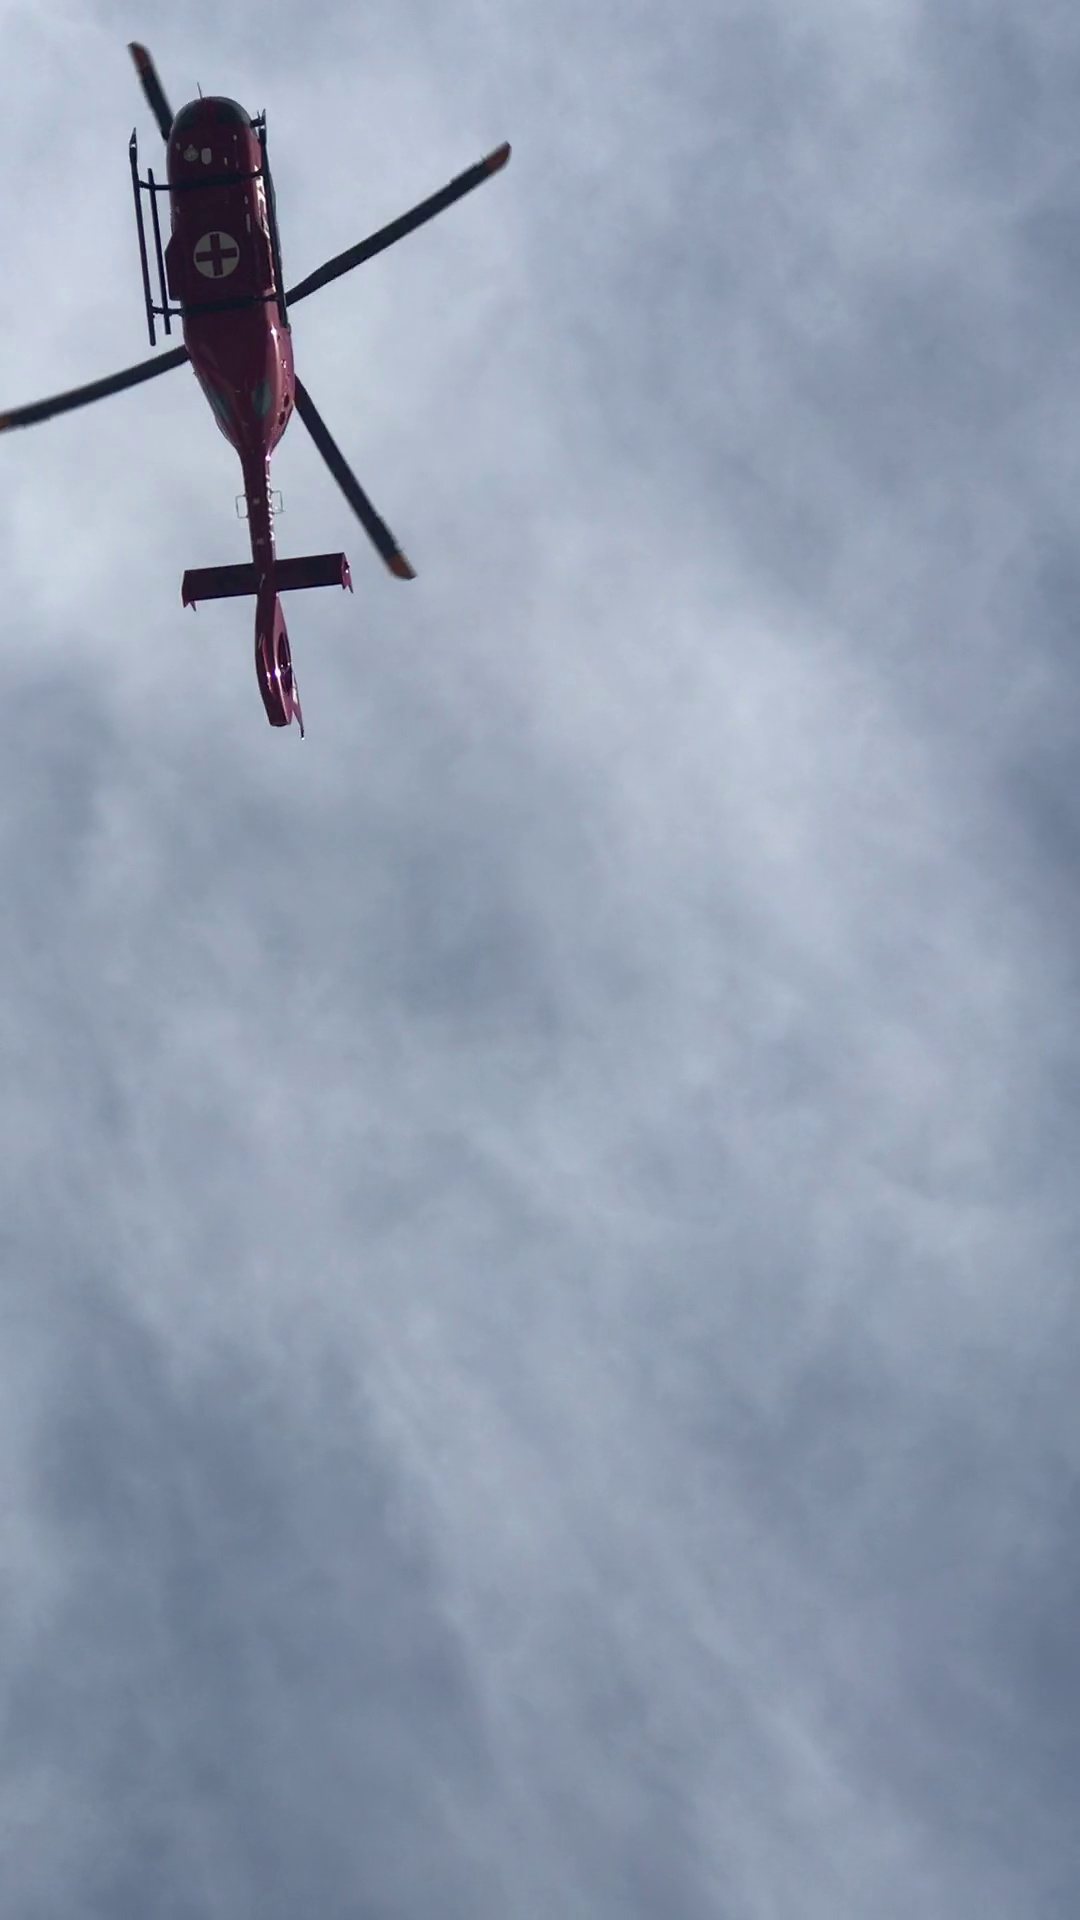heli: (1, 40, 508, 740)
